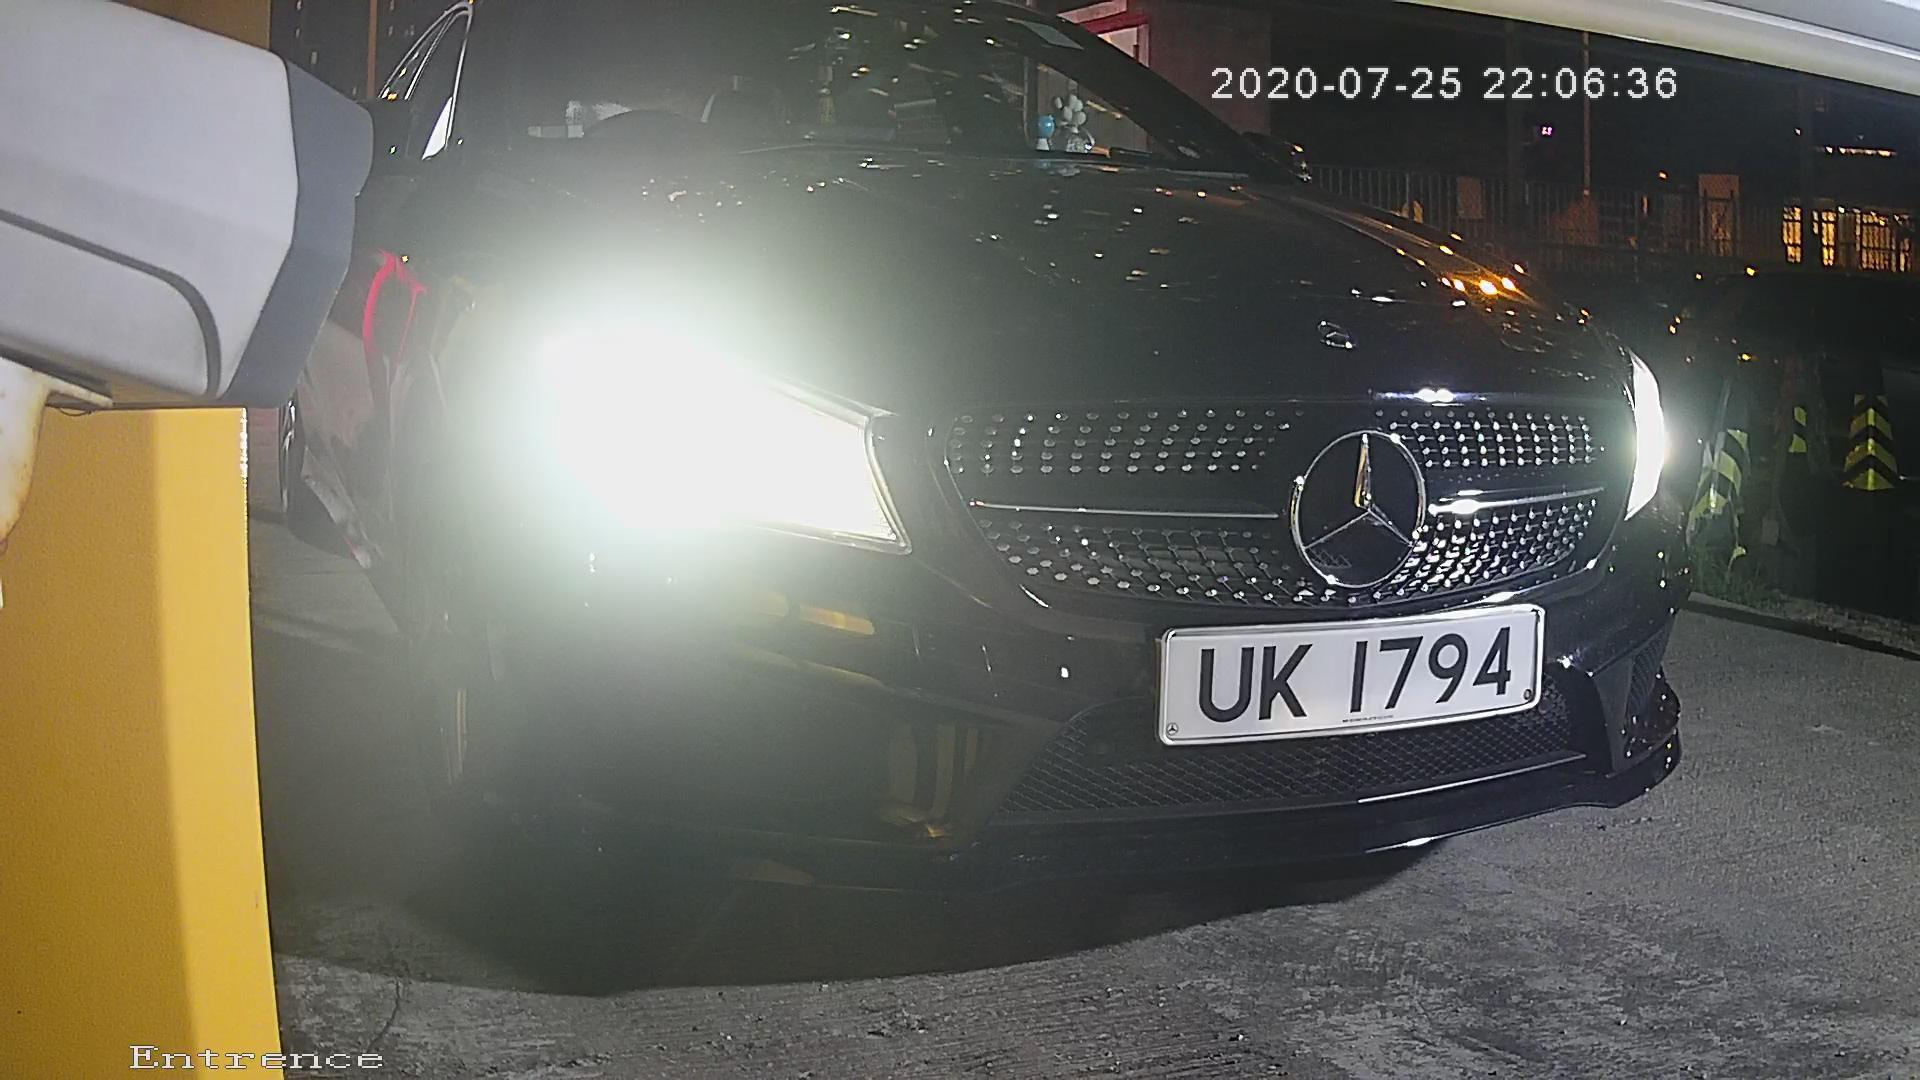privatecar: (369, 20, 1716, 955)
